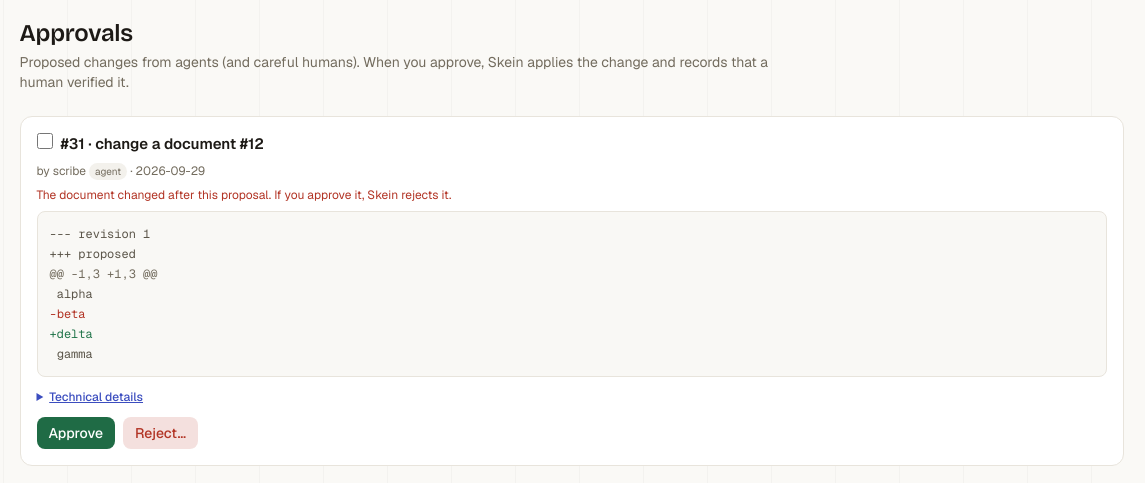
a document edit in Approvals › an approval that settles the proposal takes its card out (settles: true)
Click the button with aria-label "Approve proposal #31: change a document" at [76, 433], box [36,417,115,449]
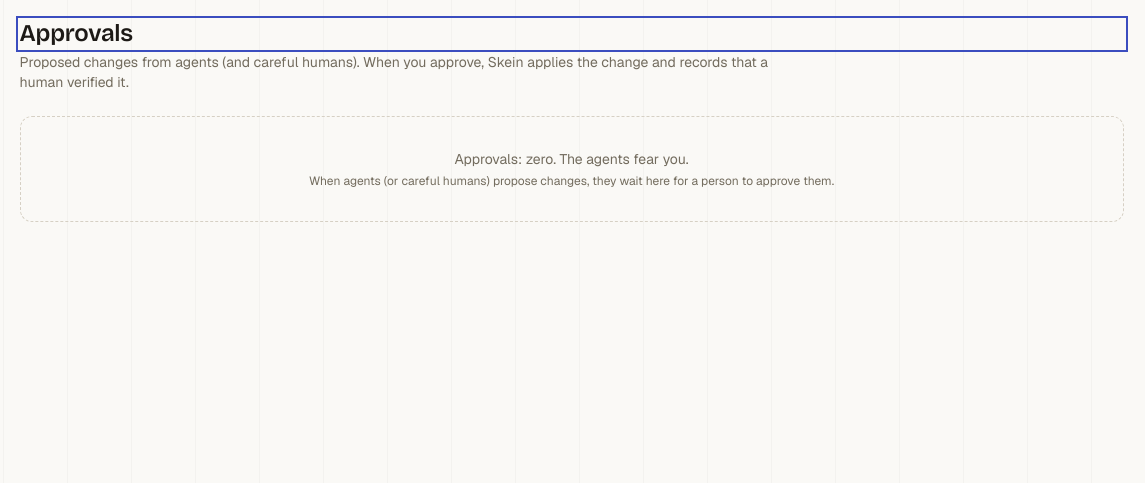
Check: the text "+delta" is not shown
